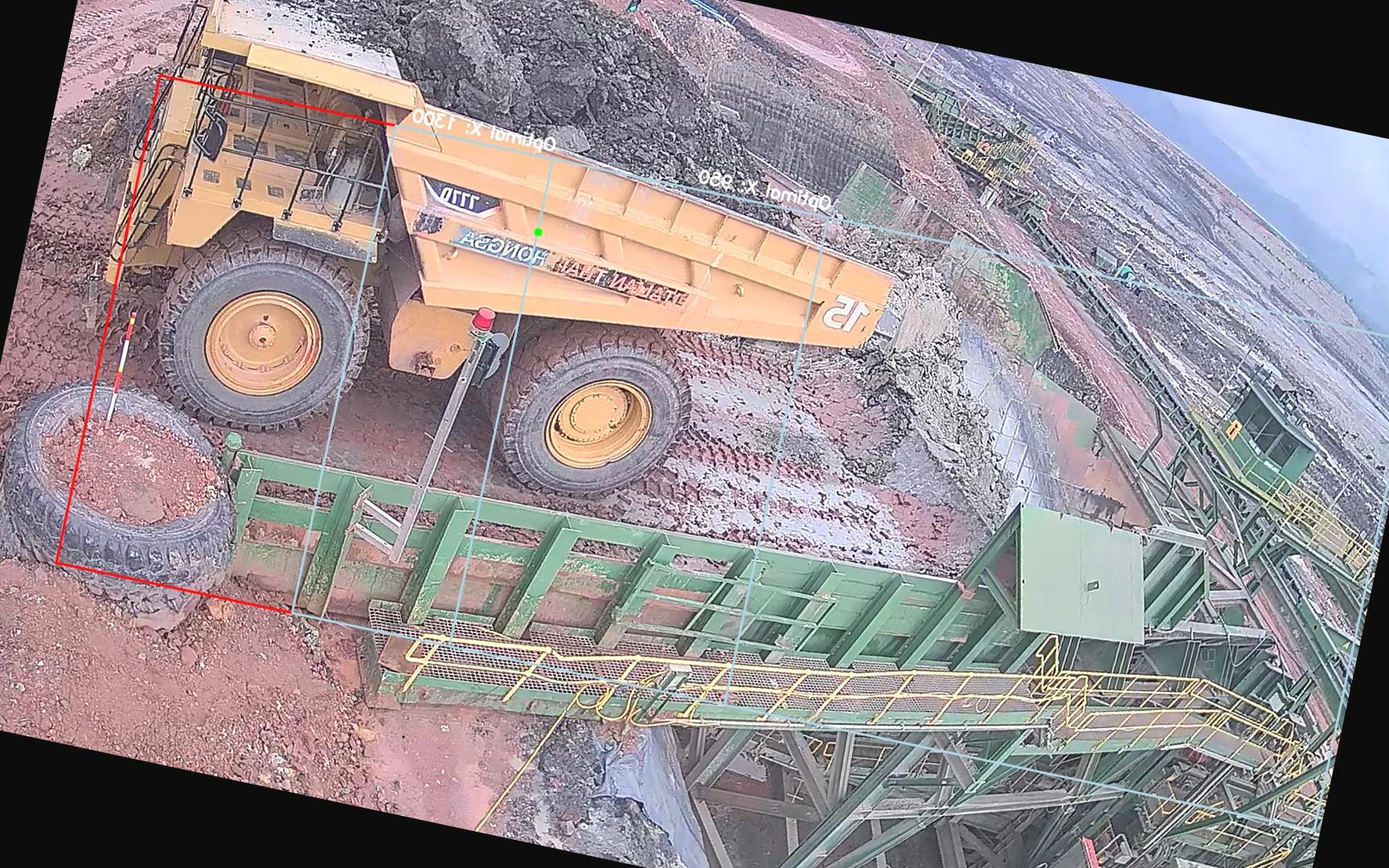company: (438, 210, 710, 322)
full_load: (383, 0, 787, 211)
mining_truck: (72, 0, 957, 558)
tail_number: (810, 285, 877, 346)
truck_size: (412, 169, 513, 228)
